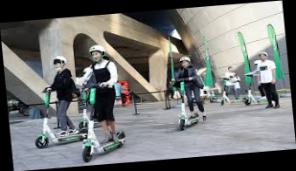helmet: (69, 41, 128, 162), (27, 54, 93, 149), (166, 52, 210, 131)
